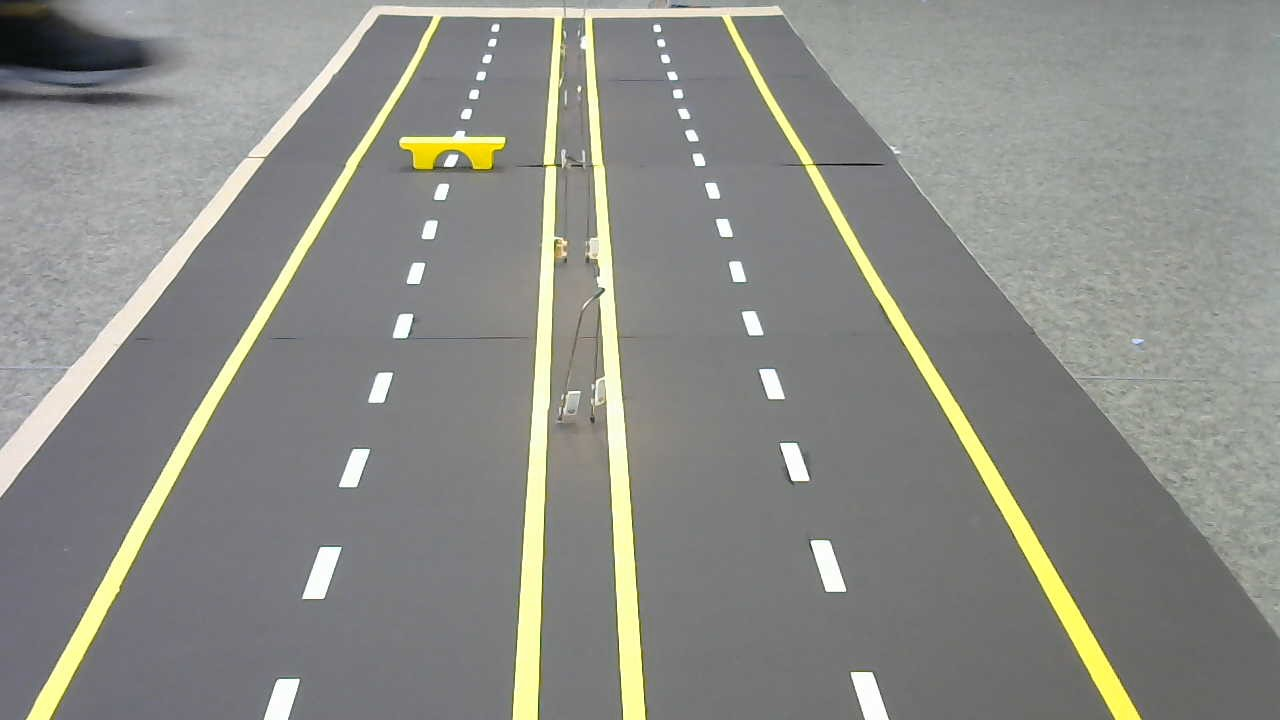emergency_situation: (394, 131, 510, 178)
